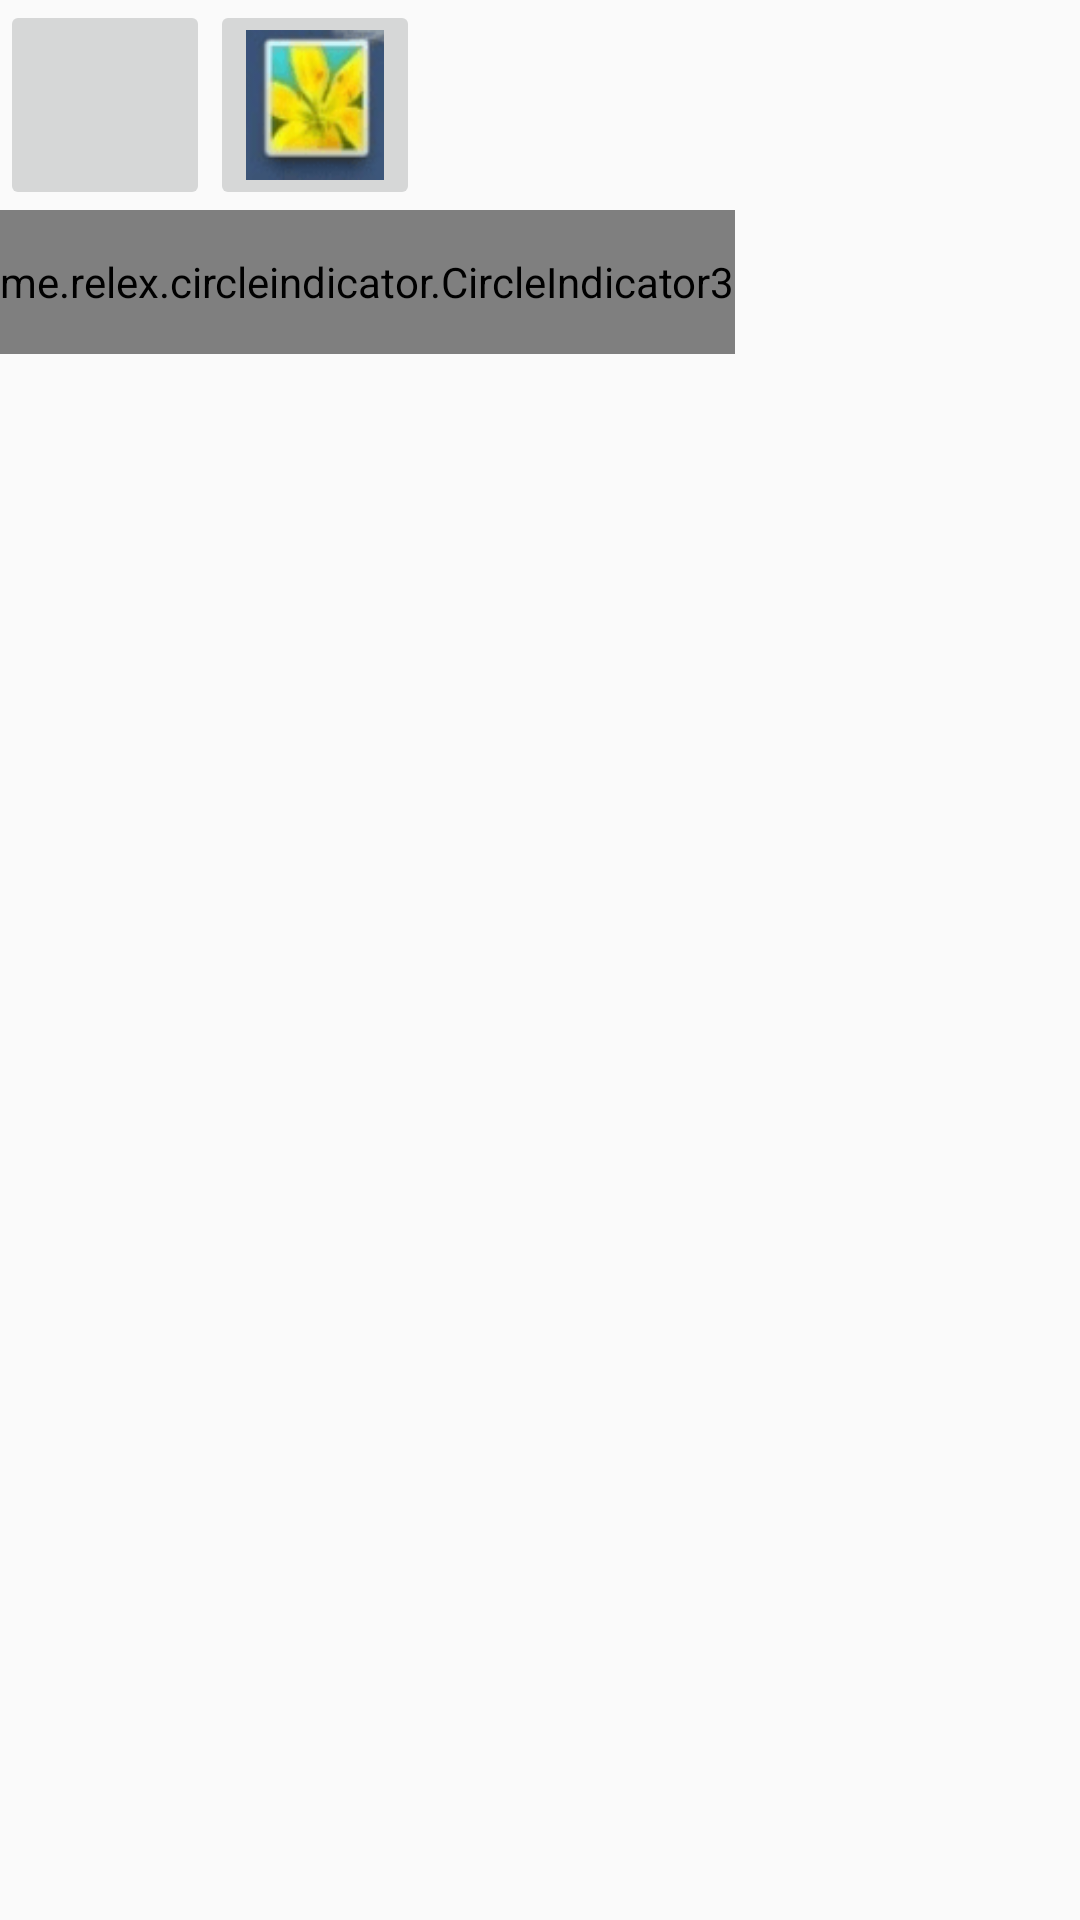

Point at icon controls on the screen. Image size 1080px x 1920px, points as point (x, y).
galary: point (315, 105)
